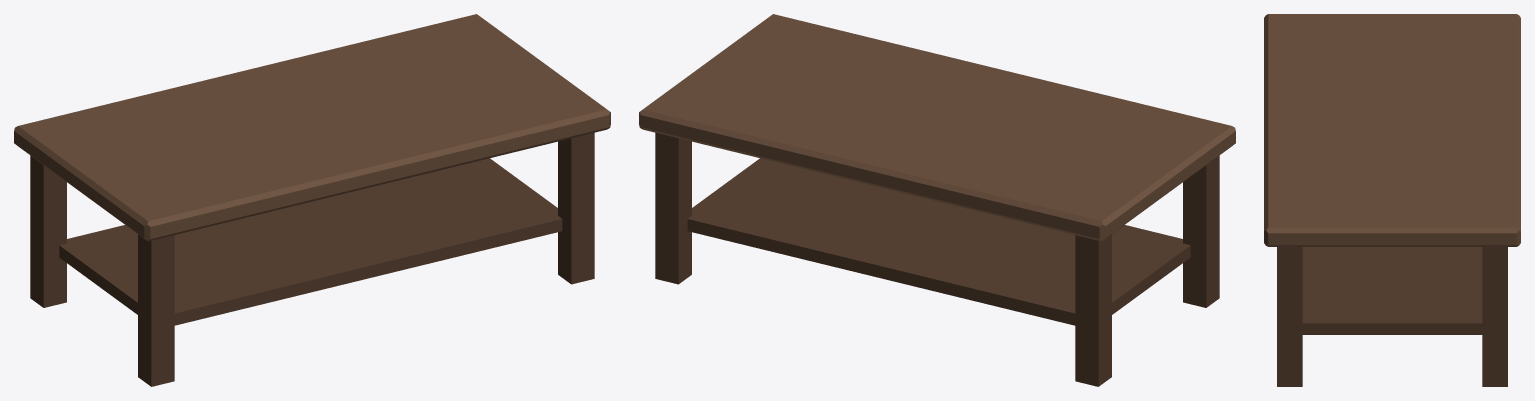
File: table_basse.glb
3 renders of one model, left to right at view 1: azimuth 30°, elevation 25°; view 2: azimuth 150°, elevation 25°; view 3: azimuth 270°, elevation 25°, orthographic. The views are drawn at different scales.
Parts seen in each view (by area): view 1: top, shelf, legs; view 2: top, shelf, legs; view 3: top, shelf, legs.
Part boxes in pixels (box(x1,y1,x2,y2)): top: box(14, 14, 610, 241); shelf: box(59, 158, 562, 325); legs: box(30, 132, 594, 386); top: box(639, 14, 1235, 241); shelf: box(687, 158, 1190, 325); legs: box(655, 132, 1219, 386); top: box(1264, 14, 1520, 246); shelf: box(1302, 247, 1482, 334); legs: box(1277, 247, 1507, 386).
Bounding box in the file's own units: 1.2 × 0.42 × 0.6.
2 materials, 2 textured.
